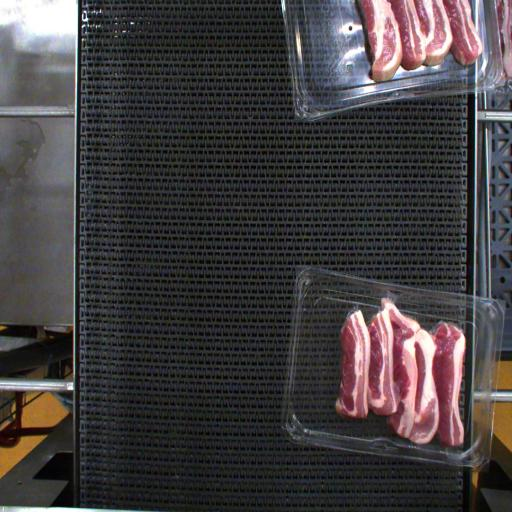packaging-error: (384, 287, 401, 313)
unsealed: (425, 316, 463, 340), (342, 300, 368, 327)
